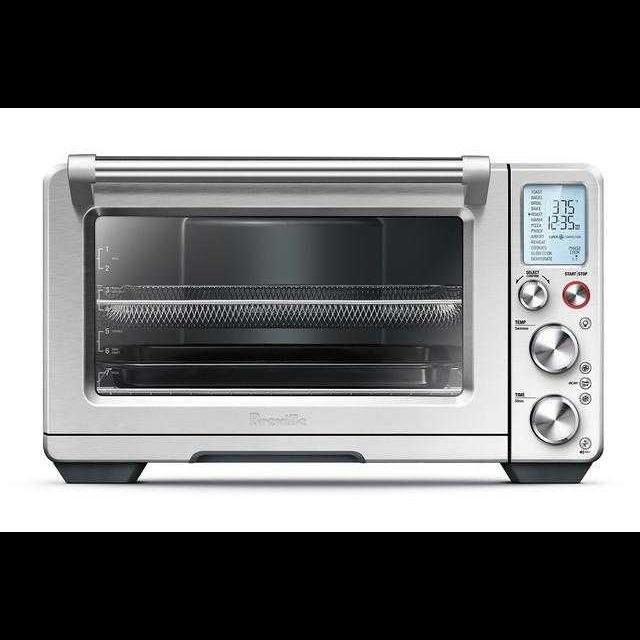Oven: (43, 155, 604, 461)
